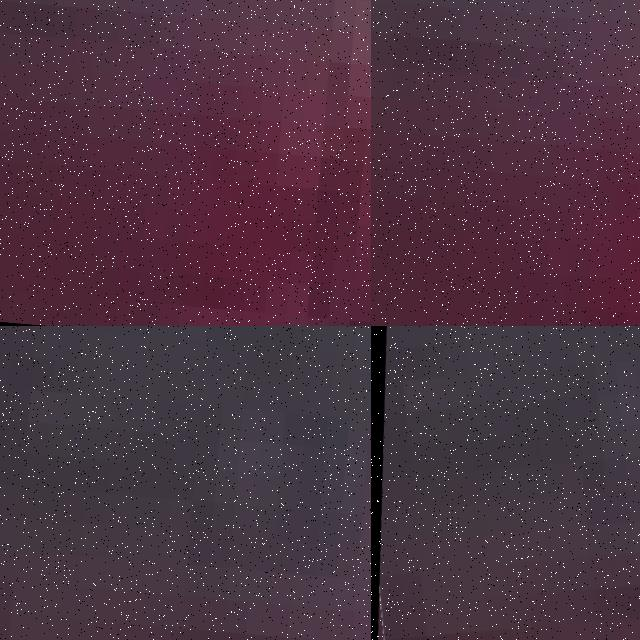drone: (371, 326, 640, 640)
